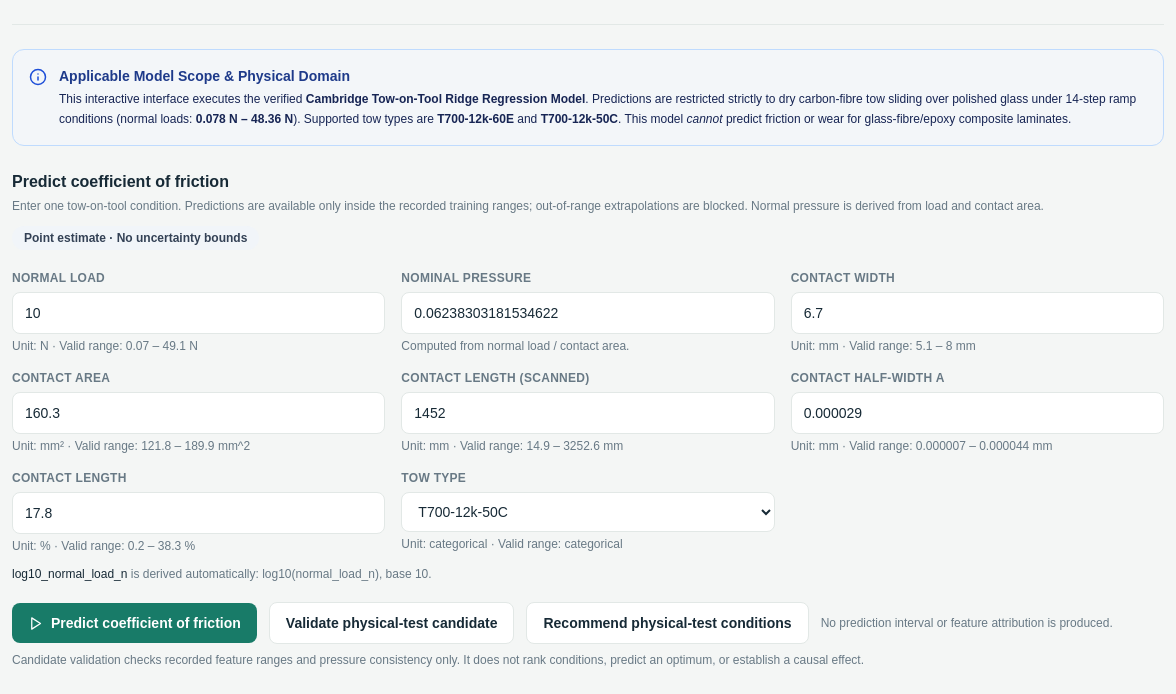
Test: CofPredictionForm › labels an accepted candidate as a physical test condition, not an optimum
Click the button "Validate physical-test candidate" at (392,623), box top-left (269, 602), bottom-right (514, 644)
(page scrolled)
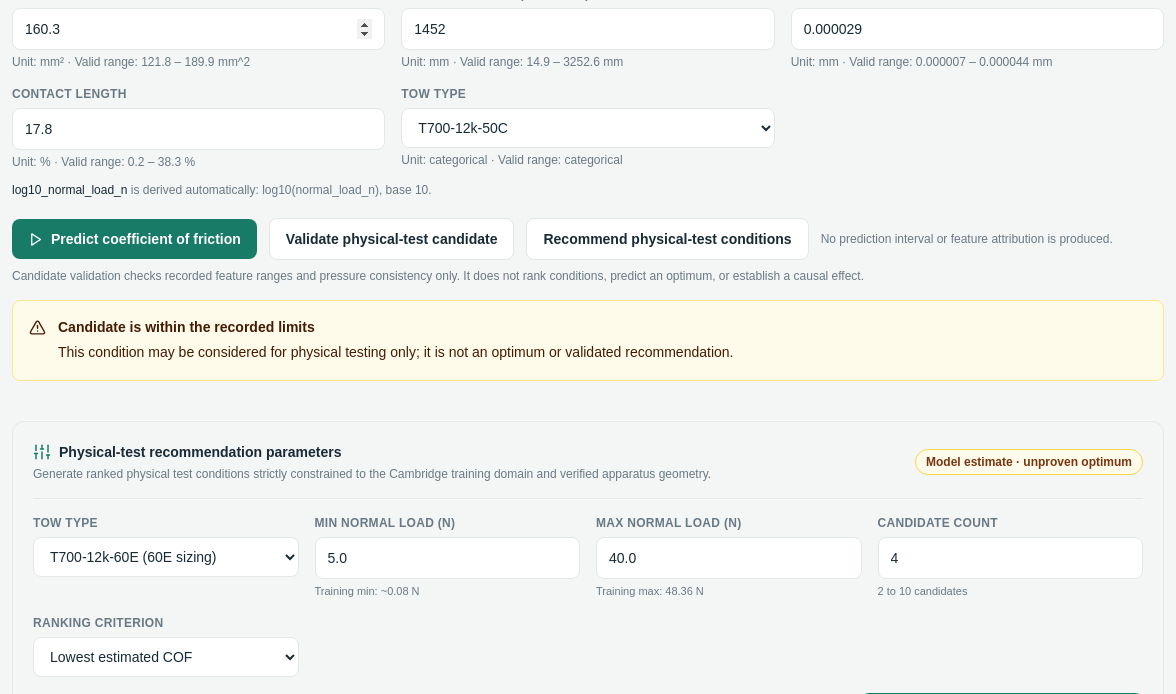
Check: the text "Candidate is within the recorded limits" is shown, box top-left (58, 319), bottom-right (315, 335)
Check: the text "not an optimum or validated recommendation" is shown, box top-left (58, 344), bottom-right (734, 360)
